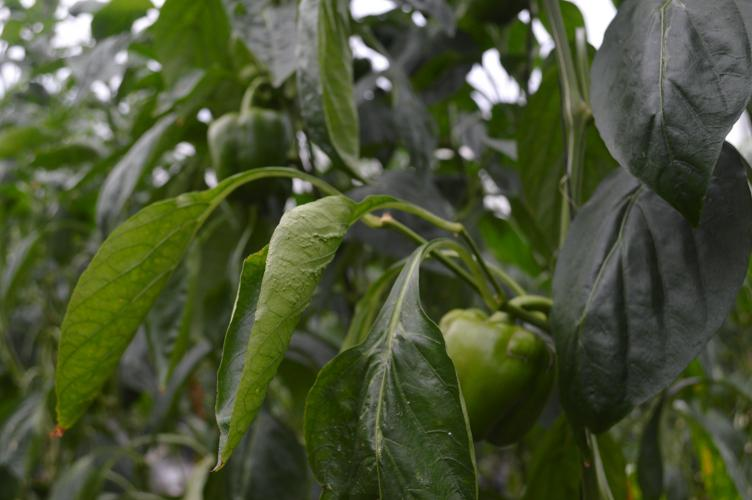BellPepper: (435, 306, 554, 449), (206, 108, 295, 201)
